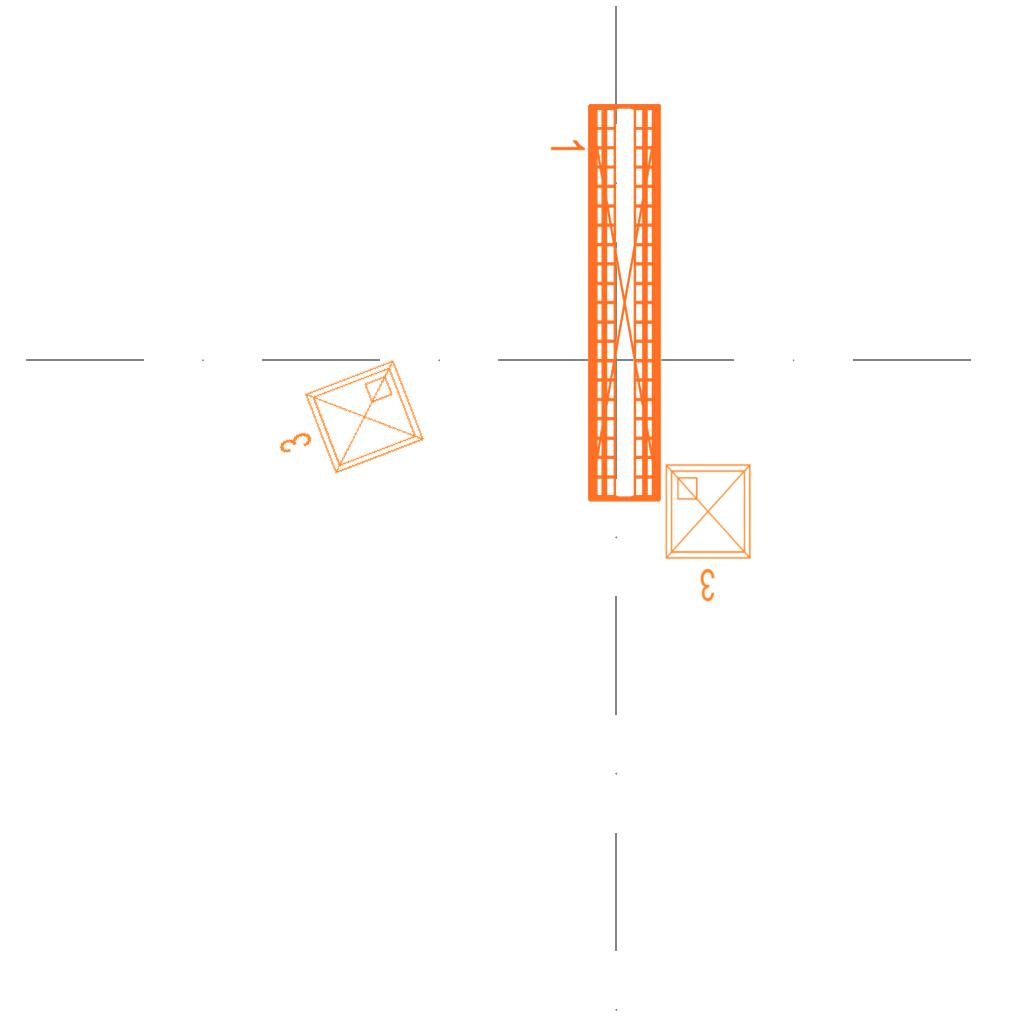Buero_Pendelleuchten_LED: (541, 97, 671, 510)
Einbaudownlights_LED_Konferenzraeume: (257, 350, 435, 502), (658, 457, 762, 607)
